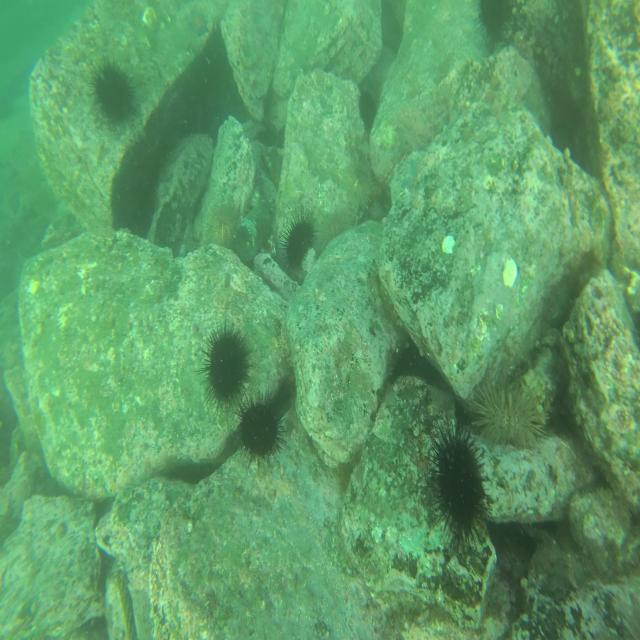echinus: (433, 427, 483, 536), (478, 381, 542, 449), (203, 327, 249, 403), (239, 400, 283, 463), (92, 62, 134, 125), (286, 217, 317, 268), (479, 1, 513, 36)
